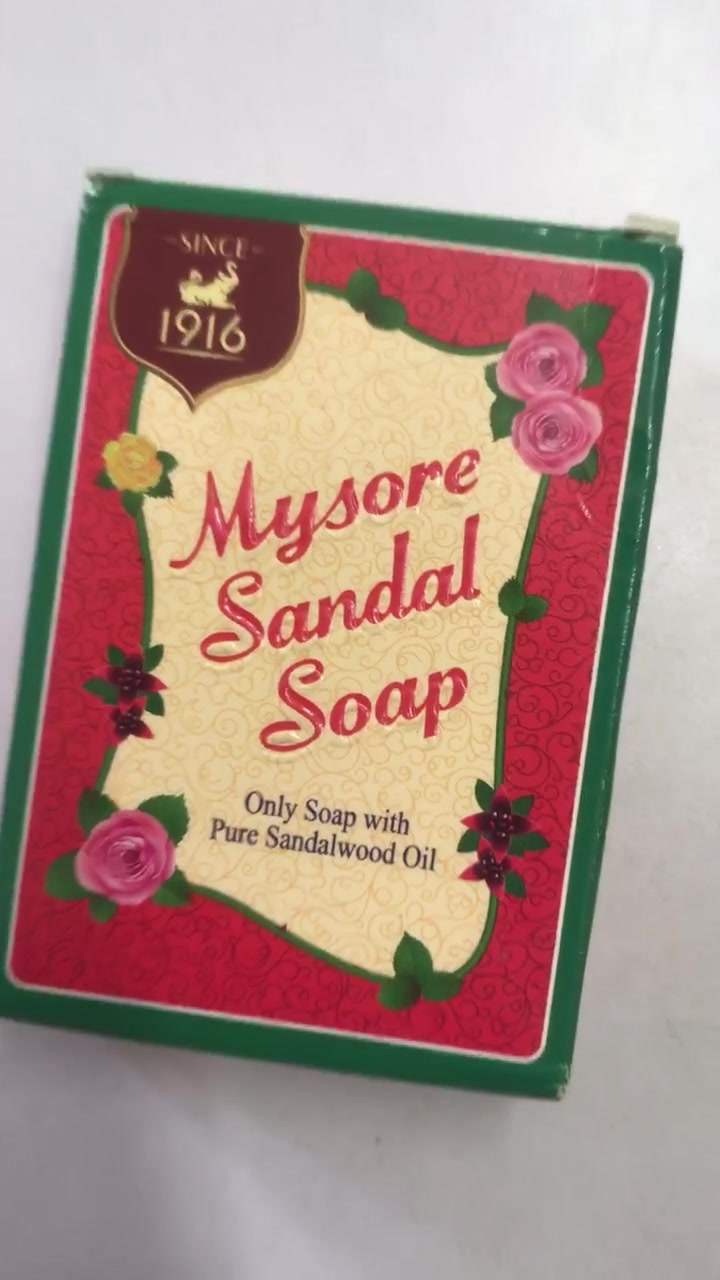mysore sandal soap: (20, 174, 683, 1102)
